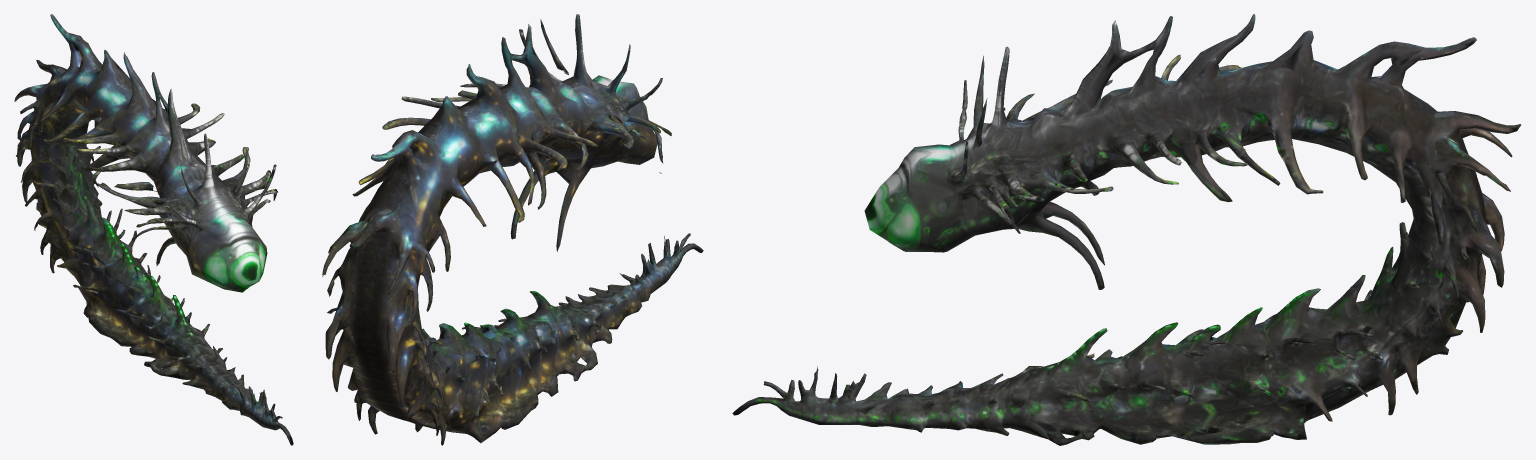
Rendered from c6baa1b8-8e05-49f8-bb58-b7092e7f10fa.glb.
3 renders of one model, left to right at view 1: azimuth 30°, elevation 25°; view 2: azimuth 150°, elevation 25°; view 3: azimuth 270°, elevation 25°, orthographic. The views are drawn at different scales.
Size of the model in its own units: 0.6708 by 1.15 by 2.
Materials: 1 (1 with a texture image).
